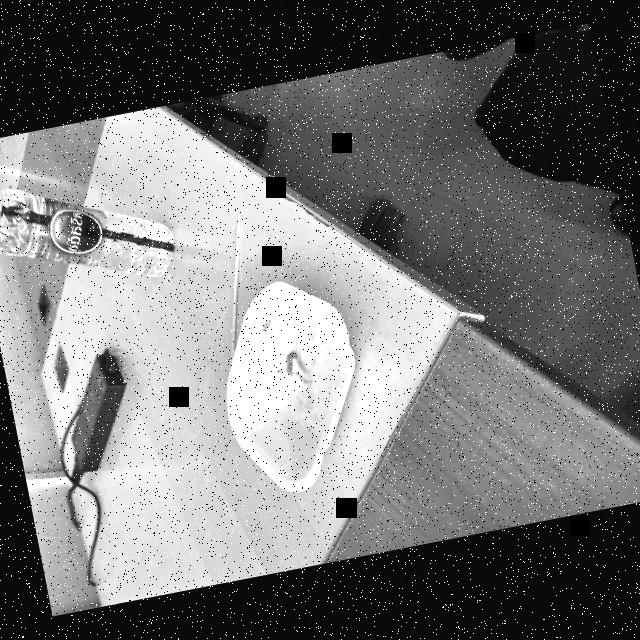cardboard_bowl: (197, 271, 376, 508)
stick: (201, 203, 266, 354)
